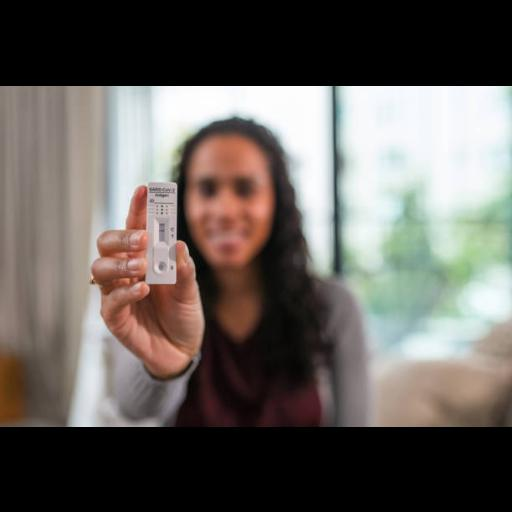Neg: (146, 181, 176, 281)
